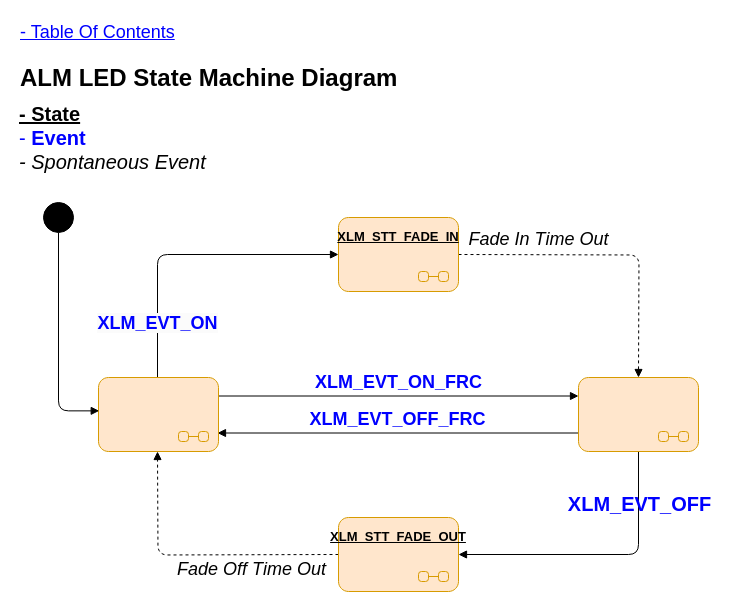
Some shapes in this 730 by 609 pixel diagram are drawn without their labels. Each missing label, with the centre of its shape:
"XLM_STT_OFF" belongs at [158,414].
"XLM_STT_ON" belongs at [638,414].
